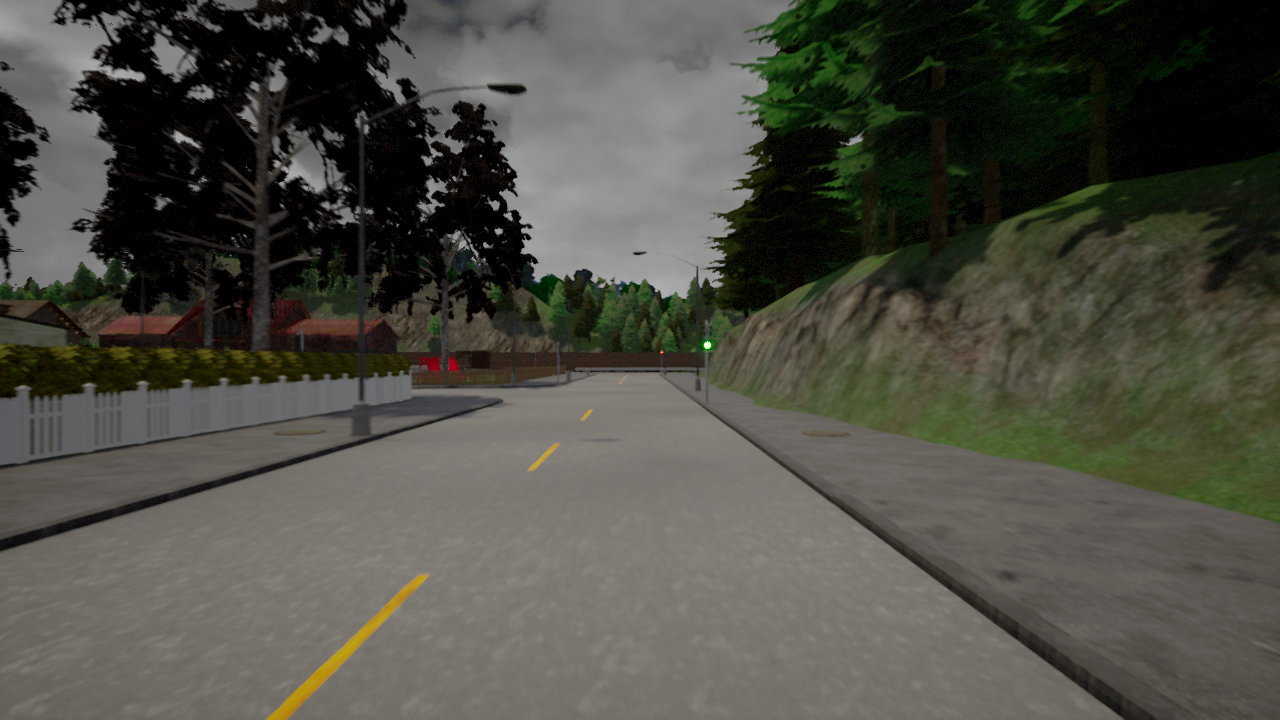green: (701, 325, 712, 351)
